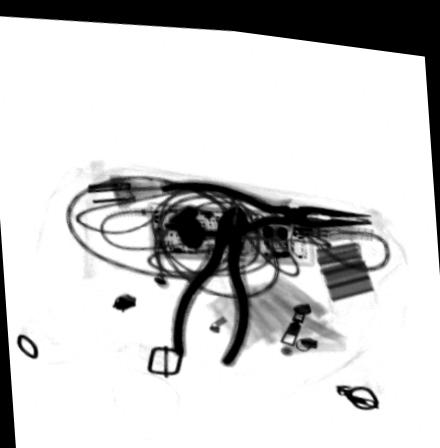Pliers: (169, 196, 254, 360), (157, 173, 373, 233)
